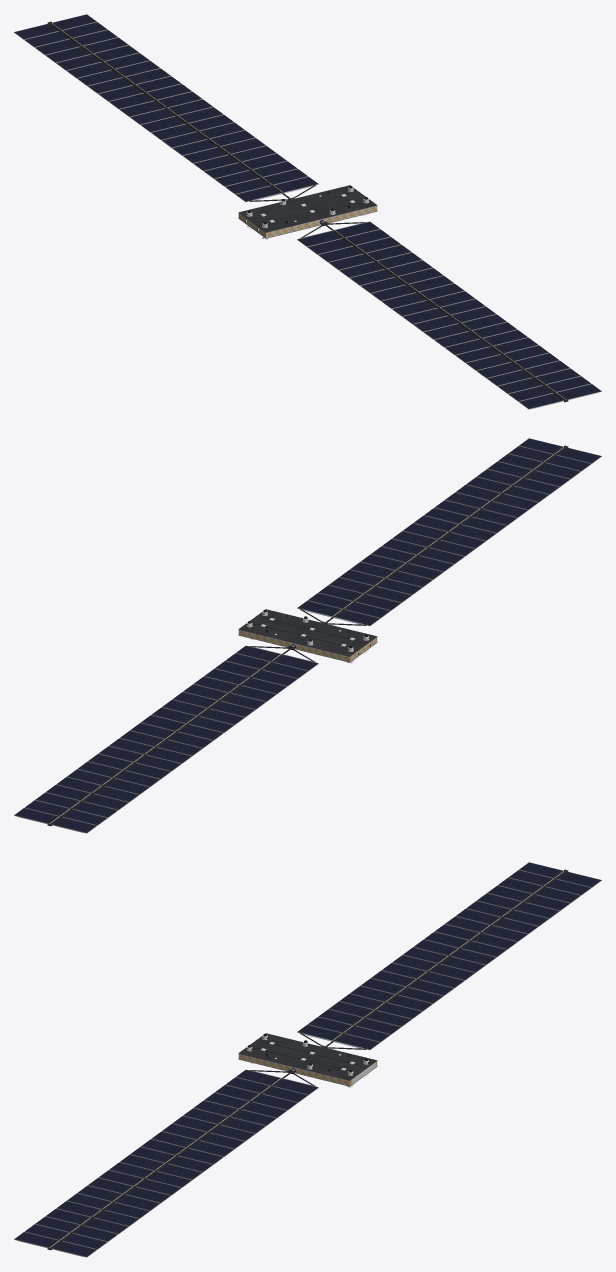
File: starlink-v3.glb
3 renders of one model, top to bottom at view 1: azimuth 30°, elevation 25°; view 2: azimuth 150°, elevation 25°; view 3: azimuth 330°, elevation 25°, orthographic.
Parts seen in each view (by area): view 1: Wing_R, Wing_L, Bus; view 2: Wing_L, Wing_R, Bus; view 3: Wing_R, Wing_L, Bus.
Boxes of the visible parts, left/top/right/bottom form: Wing_R: left=297, top=221, right=601, bottom=409; Wing_L: left=14, top=14, right=318, bottom=202; Bus: left=238, top=185, right=377, bottom=239; Wing_L: left=14, top=645, right=318, bottom=833; Wing_R: left=297, top=438, right=601, bottom=626; Bus: left=238, top=609, right=377, bottom=663; Wing_R: left=14, top=1069, right=318, bottom=1257; Wing_L: left=297, top=862, right=601, bottom=1050; Bus: left=238, top=1033, right=377, bottom=1087.
Bounding box in the file's own units: 7.57 × 1.19 × 60.2.
12 materials, 5 textured.
